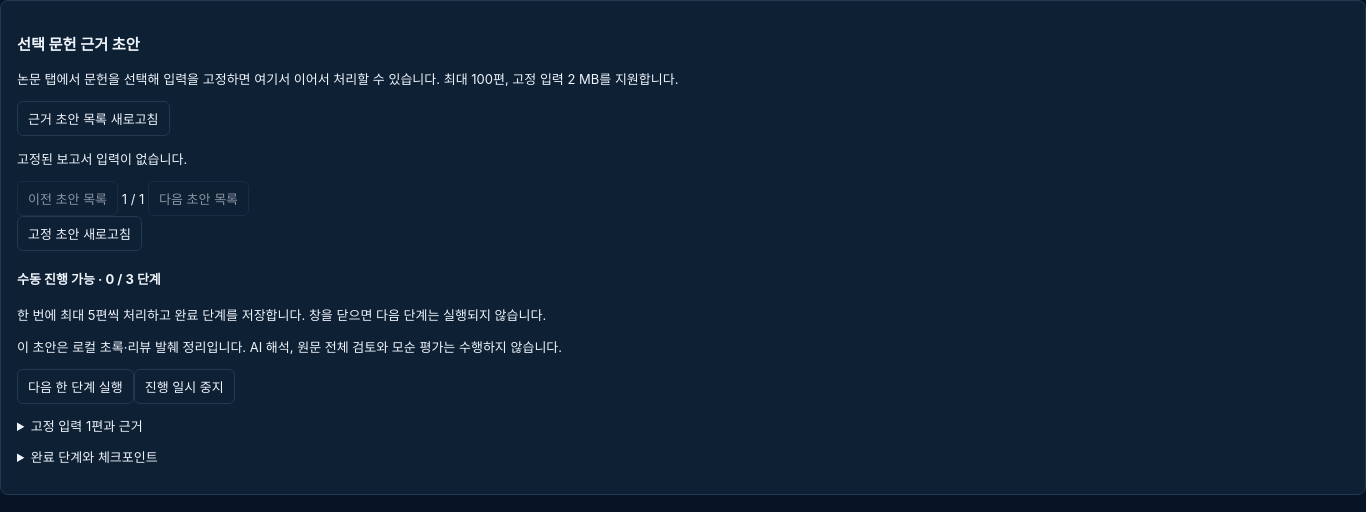
Test case: pauses and resumes manually and refreshes persisted state
Click the button "진행 일시 중지". click: (184, 386)
box: [134,369,235,404]
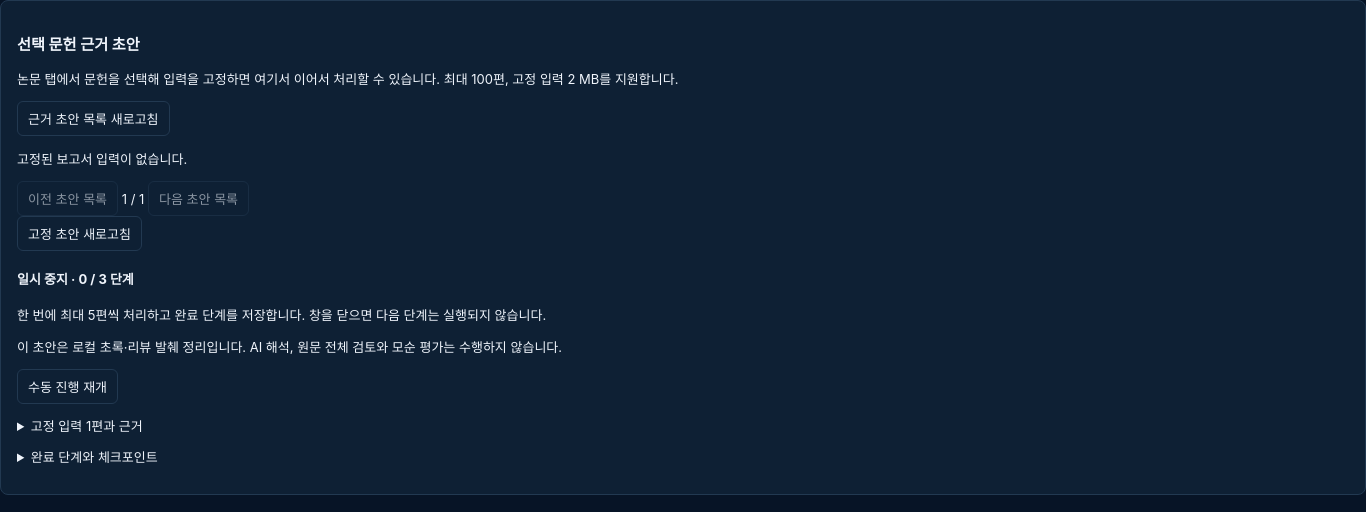
expect the heading "일시 중지 · 0 / 3 단계" is shown: met, box [17,271,134,287]
expect the button "다음 한 단계 실행" is gone: met
Click the button "수동 진행 재개". click: (68, 386)
box: [17,369,118,404]
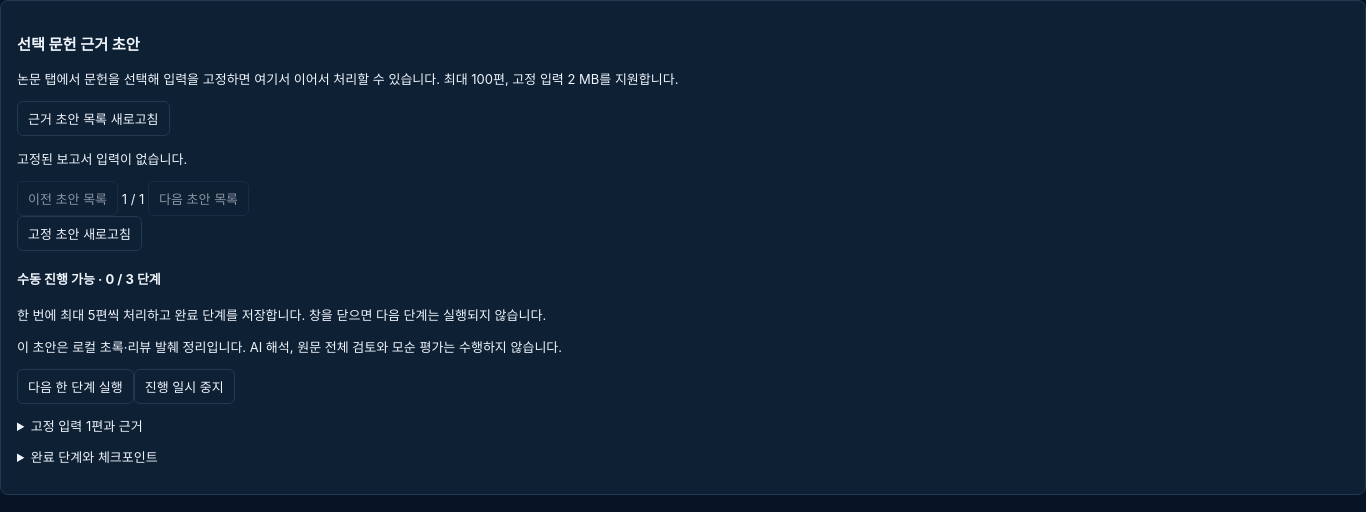
expect the heading "수동 진행 가능 · 0 / 3 단계" is shown: met, box [17,271,161,287]
Click the button "고정 초안 새로고침". click: (80, 234)
box: [17,216,142,251]
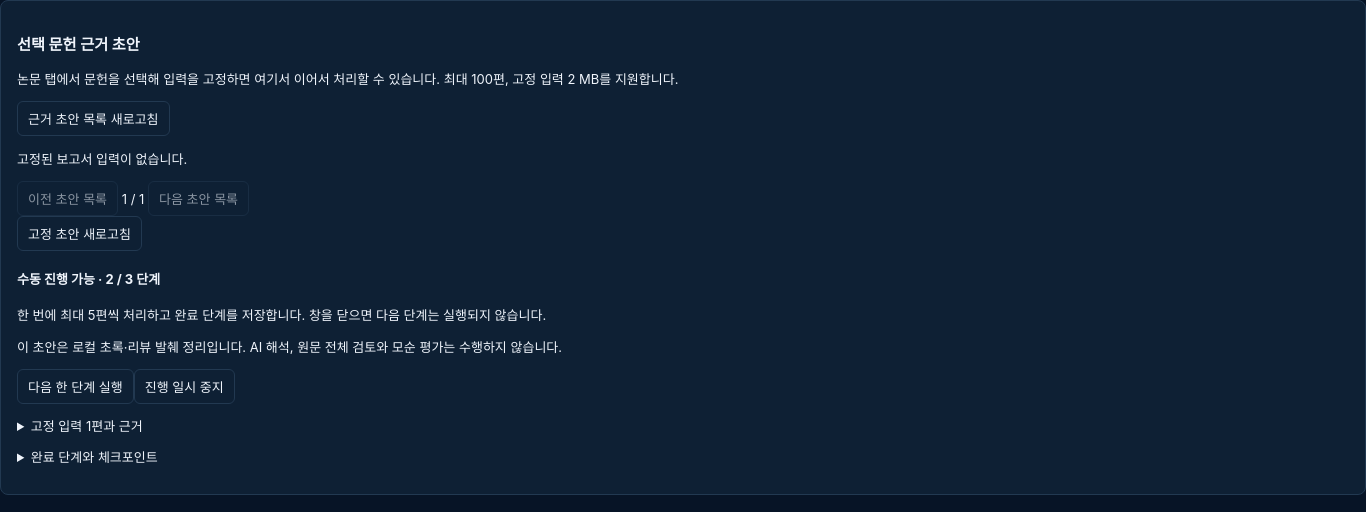
expect the heading "수동 진행 가능 · 2 / 3 단계" is shown: met, box [17,271,160,287]
